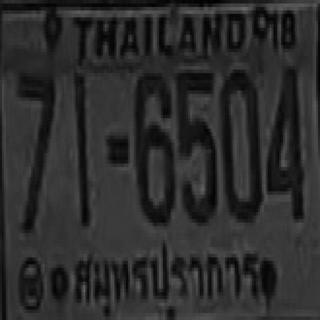N00: (220, 66, 261, 219)
N01: (73, 71, 88, 224)
N04: (266, 64, 302, 217)
N05: (177, 70, 215, 222)
N06: (135, 70, 174, 222)
N07: (17, 70, 55, 230)
P57: (67, 236, 264, 314)
